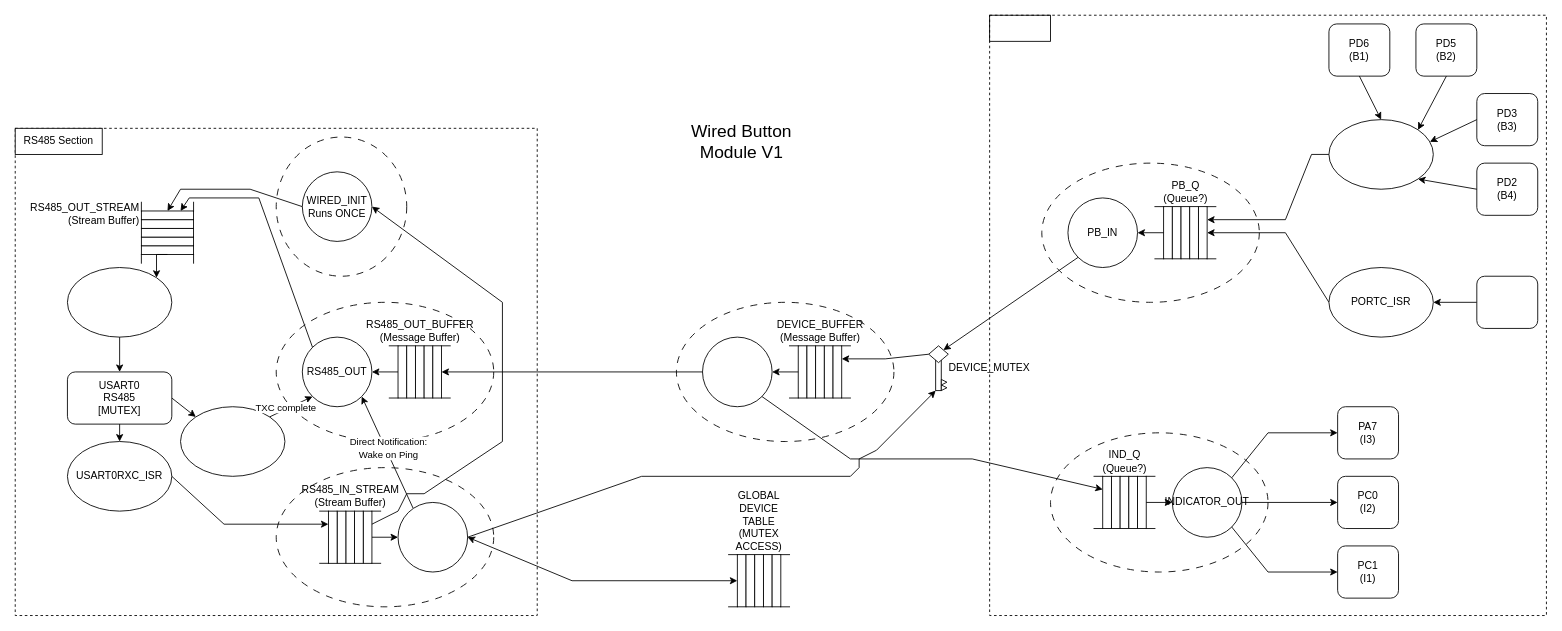
The diagram is 1562 pixels wide and 631 high, and some of its shapes have lost their labels. Here are the shapes that lost their labels. From the top down, the centre of each, then its label:
the point at 1020,27: I/O Section
the point at 1380,154: PORTD_ISR
the point at 119,302: USART0DRE_ISR
the point at 1507,301: PC3 (B1)
the point at 737,371: DEVICE SPECIFIC
the point at 232,441: USART0TXC_ISR
the point at 432,537: RS485_IN
